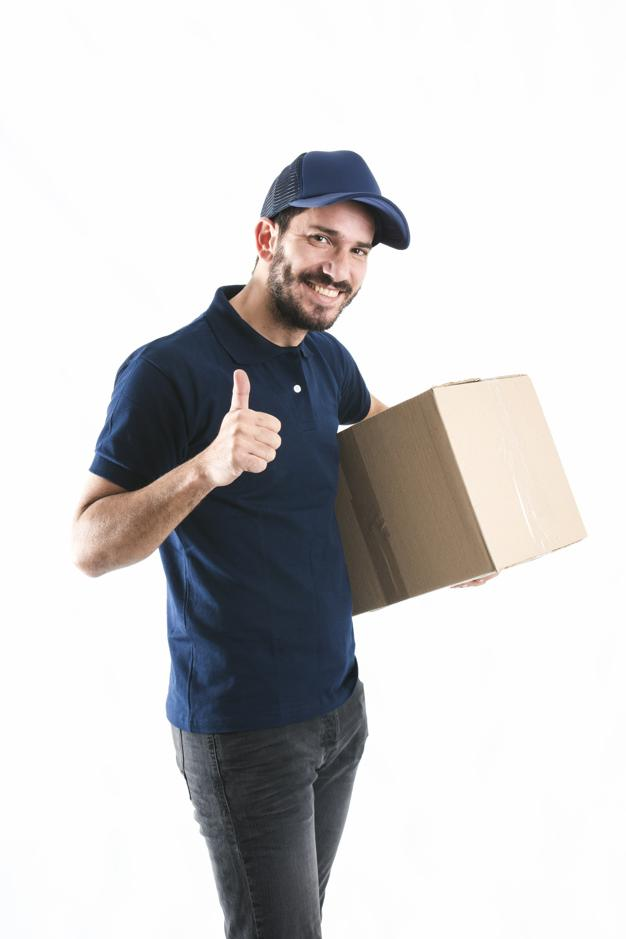thumbsup: (227, 368, 282, 473)
